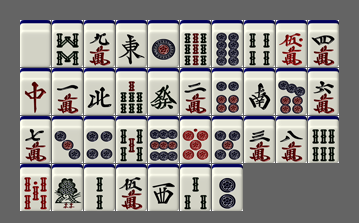0m: (276, 20, 307, 67)
0p: (180, 116, 211, 163)
0s: (20, 164, 51, 211)
1m: (52, 68, 83, 115)
1p: (148, 20, 179, 67)
1s: (52, 164, 83, 211)
1z: (116, 20, 147, 67)
2m: (180, 68, 211, 115)
2p: (212, 164, 243, 211)
2s: (84, 164, 115, 211)
2z: (244, 68, 275, 115)
3m: (244, 116, 275, 163)
3p: (52, 116, 83, 163)
3s: (180, 164, 211, 211)
3z: (148, 164, 179, 211)
4m: (308, 20, 339, 67)
4p: (84, 116, 115, 163)
4s: (244, 20, 275, 67)
4z: (84, 68, 115, 115)
5m: (116, 164, 147, 211)
5p: (212, 116, 243, 163)
5s: (116, 116, 147, 163)
5z: (20, 20, 51, 67)
6m: (308, 68, 339, 115)
6p: (212, 68, 243, 115)
6s: (308, 116, 339, 163)
6z: (148, 68, 179, 115)
7m: (20, 116, 51, 163)
7p: (276, 68, 307, 115)
7s: (116, 68, 147, 115)
7z: (20, 68, 51, 115)
8m: (276, 116, 307, 163)
8p: (212, 20, 243, 67)
8s: (52, 20, 83, 67)
9m: (84, 20, 115, 67)
9p: (148, 116, 179, 163)
9s: (180, 20, 211, 67)
